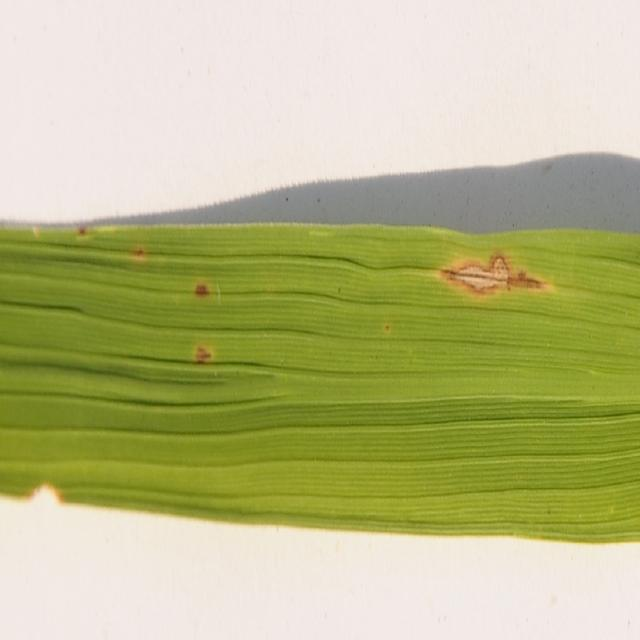Unhealthy: (433, 253, 556, 307), (194, 344, 214, 363), (193, 282, 211, 300), (132, 247, 148, 264), (77, 225, 86, 239), (385, 322, 390, 335)
